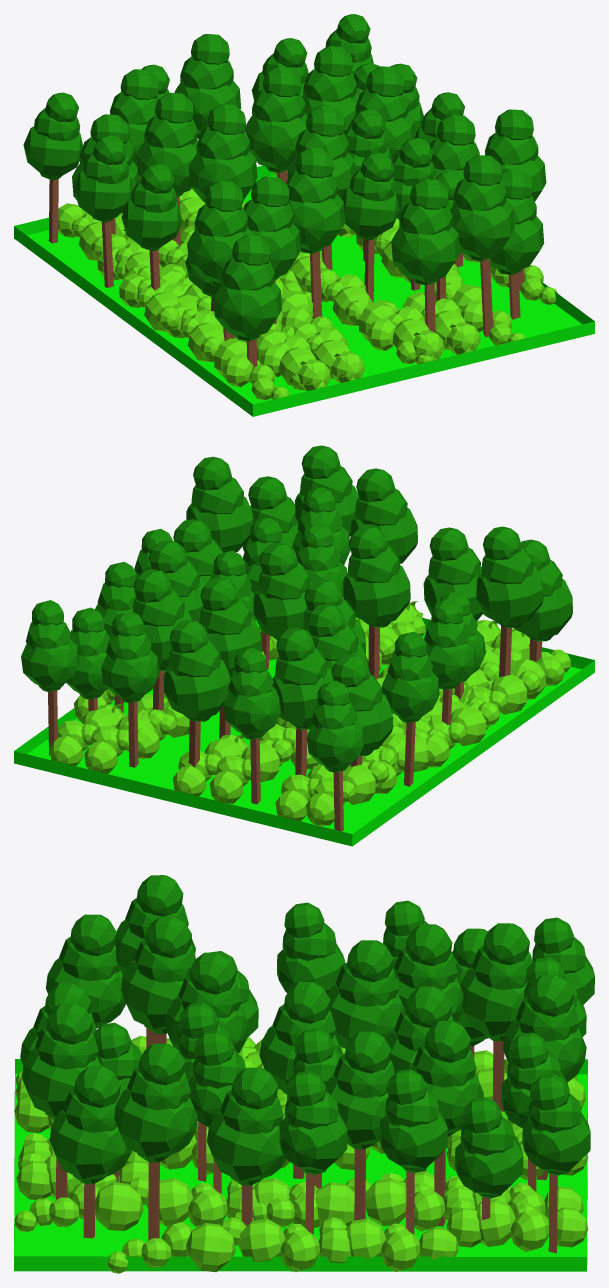
File: forest.glb
The picture shows the model from 3 angles, top to bottom: view 1: azimuth 30°, elevation 25°; view 2: azimuth 150°, elevation 25°; view 3: azimuth 270°, elevation 25°; orthographic projection. The views are drawn at different scales.
Visible parts, largest first — view 1: Tree_3_2.011; view 2: Tree_3_2.011; view 3: Tree_3_2.011.
Boxes of the visible parts, bbox=[...] form: Tree_3_2.011: bbox=[14, 14, 594, 416]; Tree_3_2.011: bbox=[14, 445, 594, 846]; Tree_3_2.011: bbox=[14, 875, 594, 1273].
Bounding box in the file's own units: 4.54 × 2.24 × 5.3.
